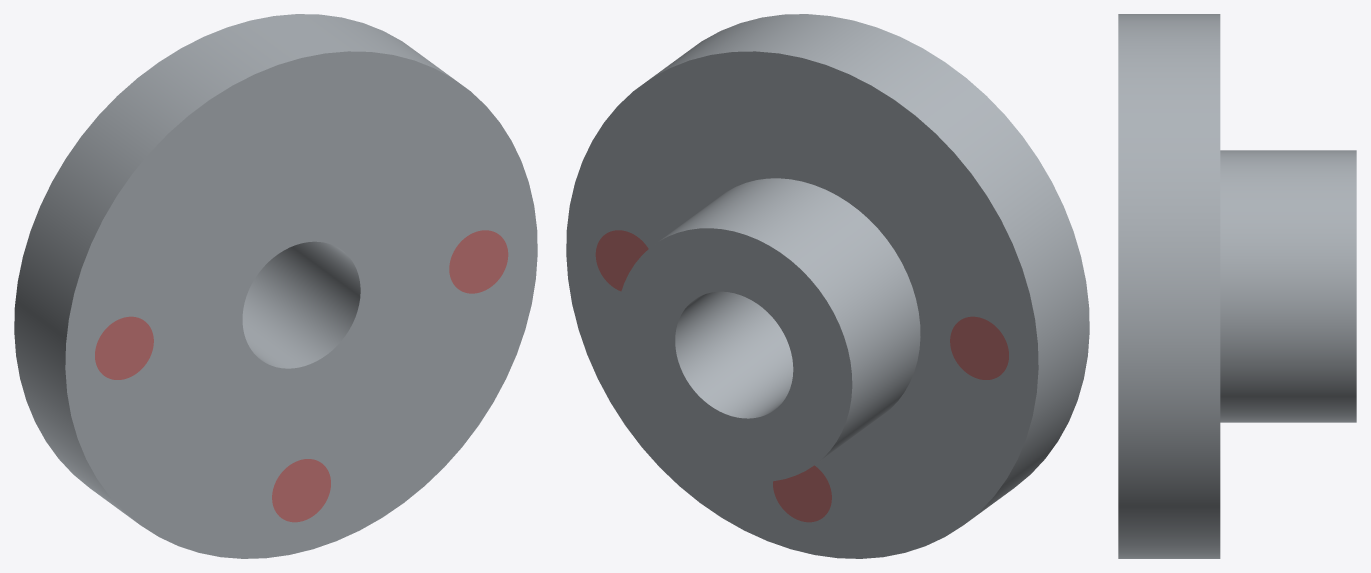
File: step_04.glb
3 views of the same model, side by side, from view 1: azimuth 30°, elevation 25°; view 2: azimuth 150°, elevation 25°; view 3: azimuth 270°, elevation 25° (orthographic).
Visible parts, largest first — view 1: part__flanged locator (GDT), removed__flanged locator (GDT); view 2: part__flanged locator (GDT), removed__flanged locator (GDT); view 3: part__flanged locator (GDT).
Boxes of the visible parts, x1,y1,x2,y2 form: part__flanged locator (GDT): [14, 14, 537, 558]; removed__flanged locator (GDT): [95, 230, 508, 522]; part__flanged locator (GDT): [566, 14, 1089, 558]; removed__flanged locator (GDT): [595, 230, 1008, 522]; part__flanged locator (GDT): [1118, 14, 1356, 558].
Size of the model in its own units: 50.78 by 50.77 by 22.23.
